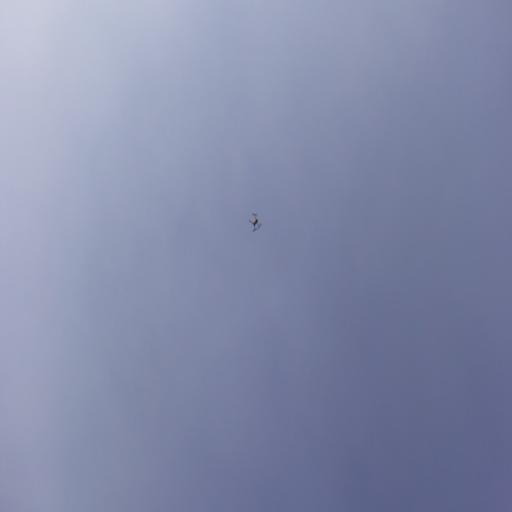drones: (248, 211, 264, 235)
